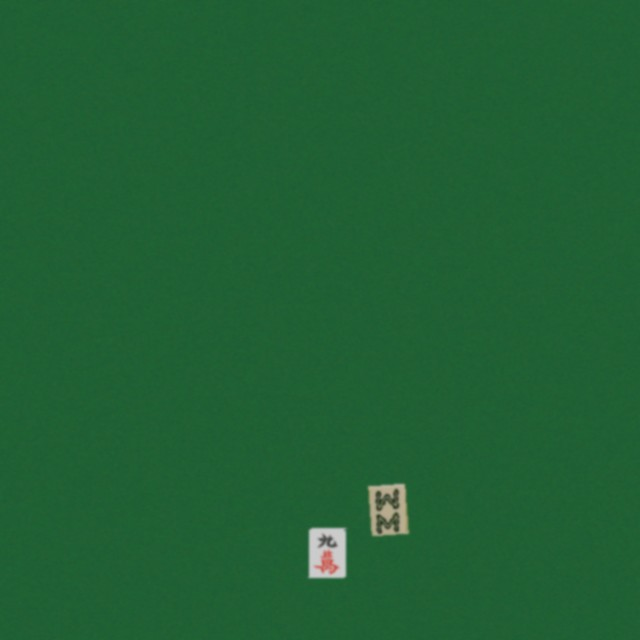tile: (368, 483, 405, 533), (308, 527, 345, 577)
